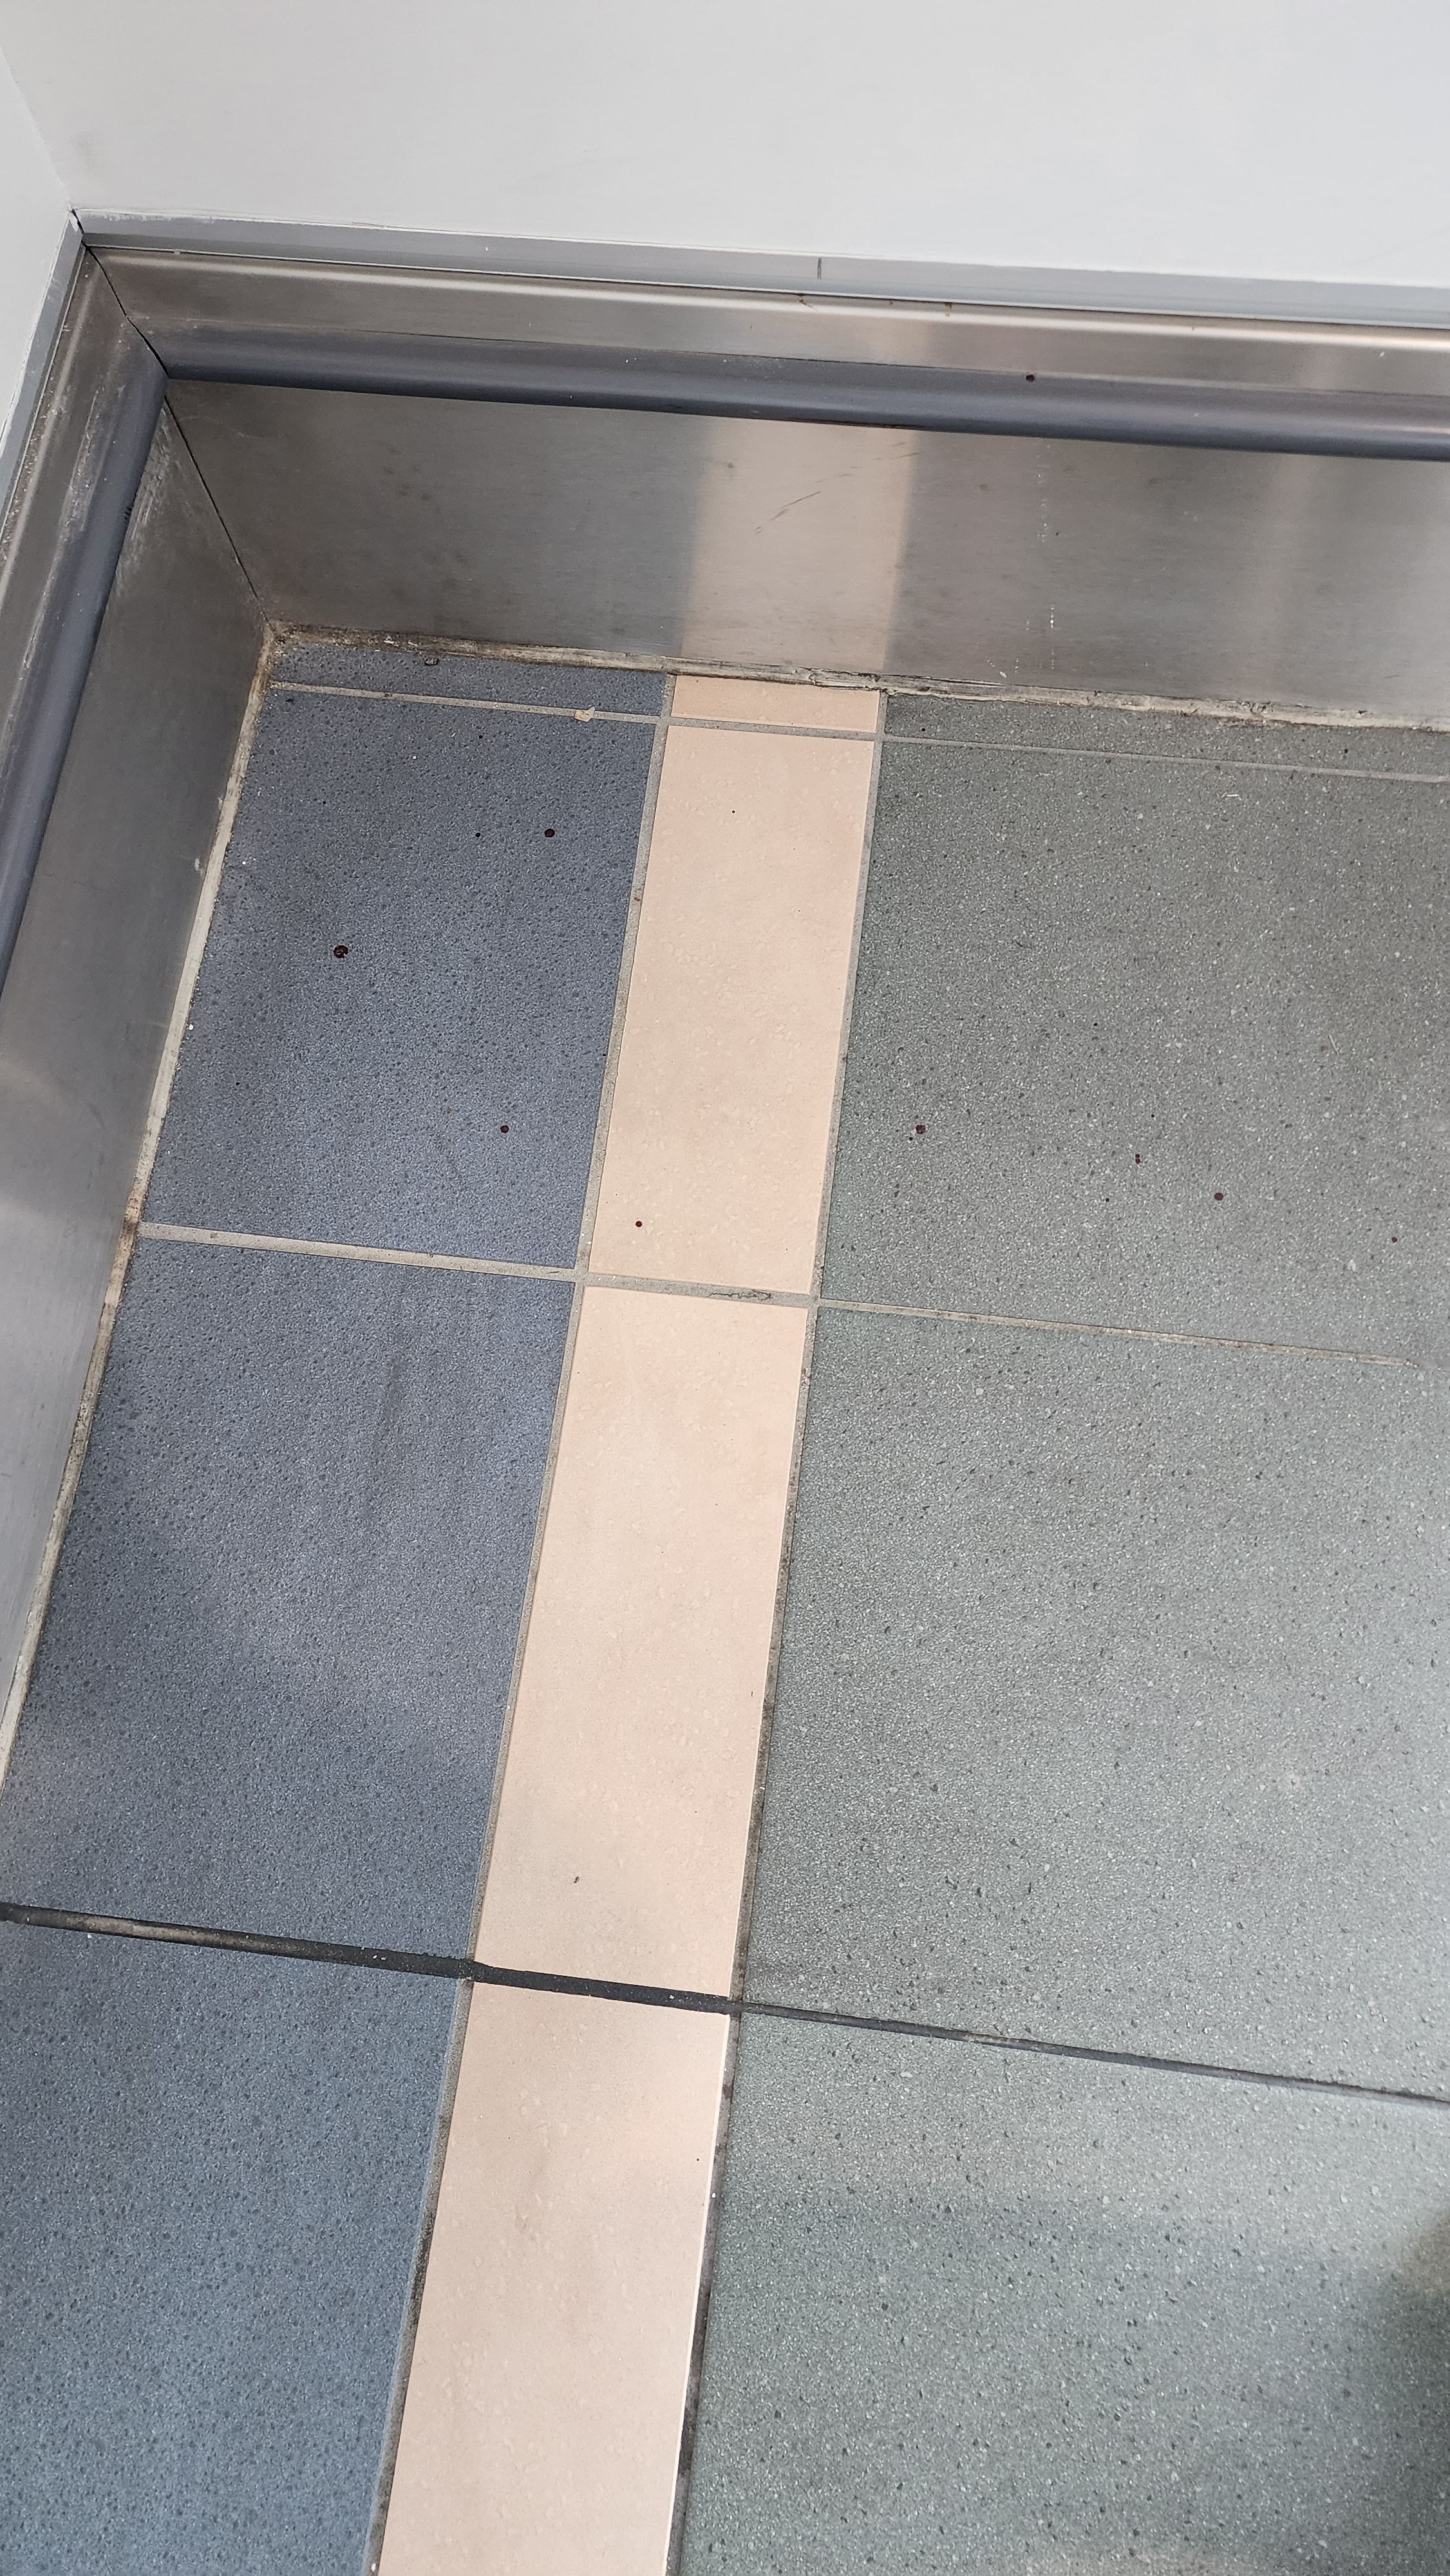Stain: (311, 922, 366, 980), (520, 812, 575, 858), (907, 1109, 951, 1154)
